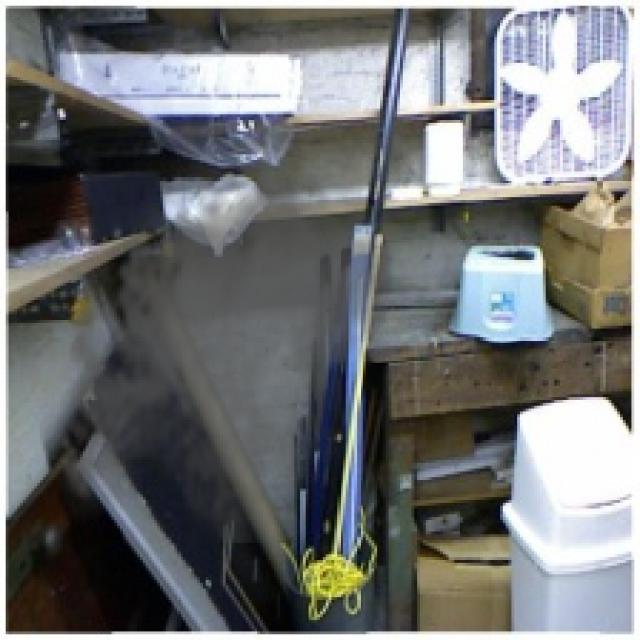smoke: (46, 151, 400, 543)
